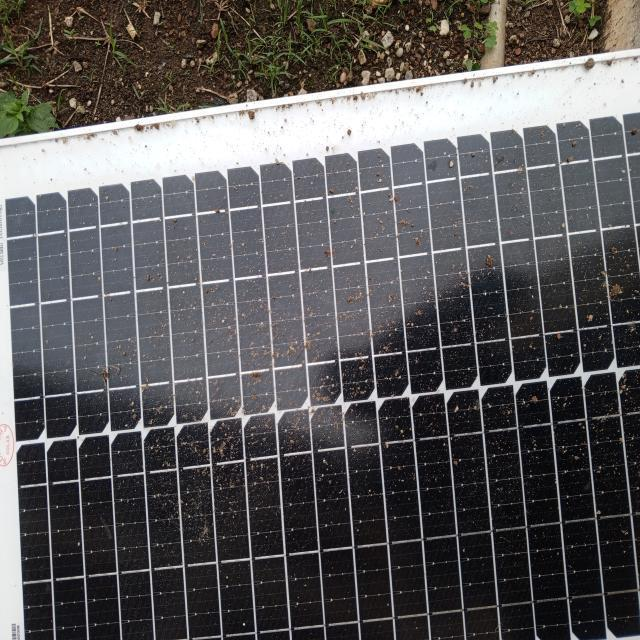Anomaly Solar Panel: (1, 150, 639, 638)
Surface Contaminant: (5, 183, 639, 636)
